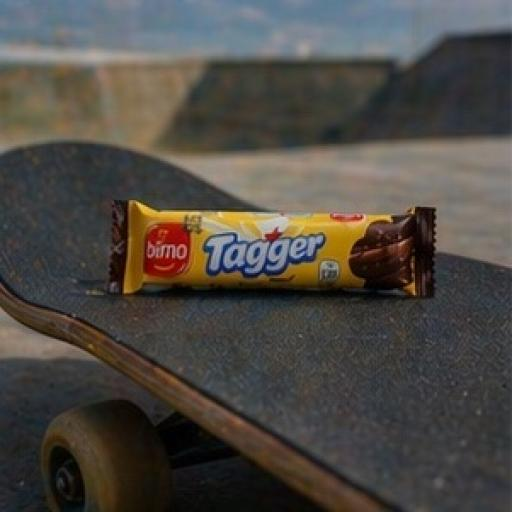tagger: (87, 133, 482, 383)
